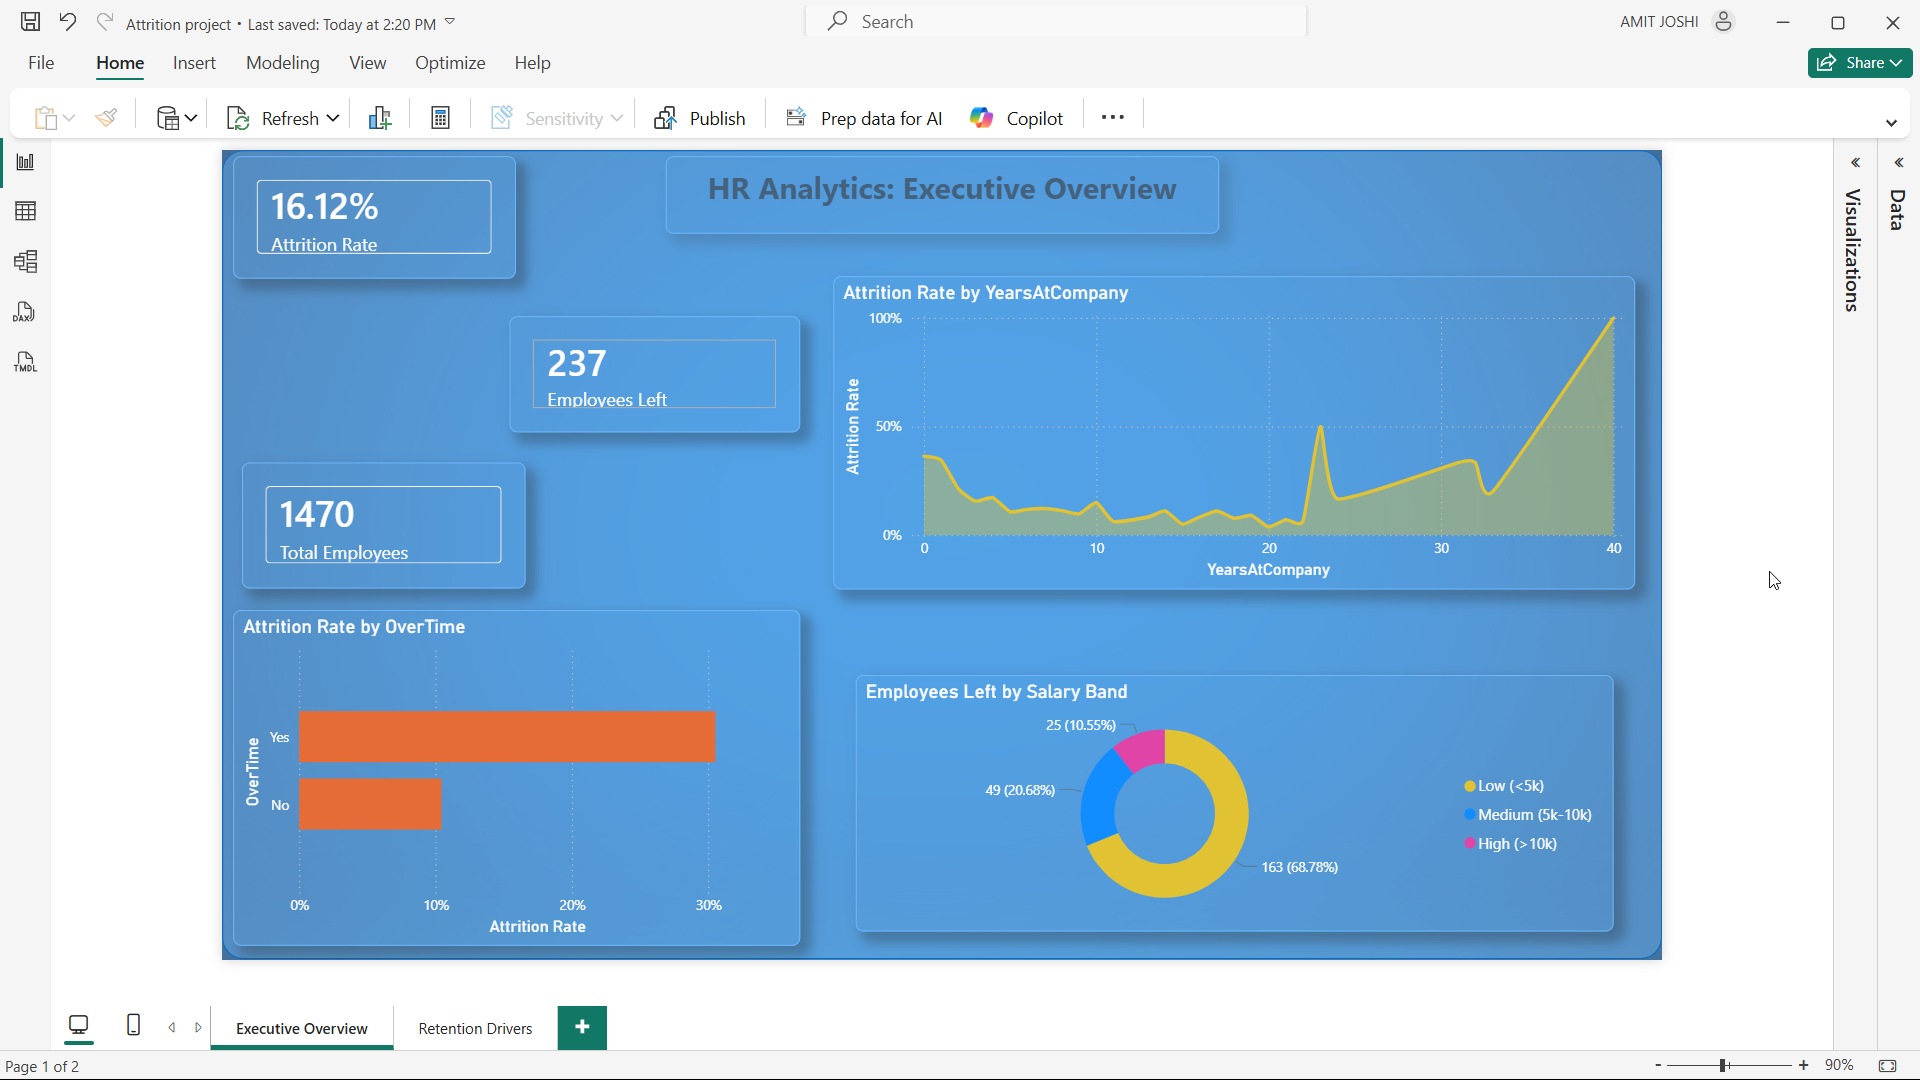

Layout of this report page (visuals, bound fields, positions):
{"tool":"powerbi","page":{"name":"Executive Overview","canvas":[1280,720],"ordinal":0},"visuals":[{"type":"textbox","box":[394.1,5.6,491.9,68.5],"z":0},{"type":"shape","box":[0,0,1280,719.2],"z":1000},{"type":"cardVisual","fields":{"Data":["employee_db employee_attrition.Attition Rate"]},"box":[9.8,5.6,251.5,109],"z":2000},{"type":"cardVisual","fields":{"Data":["employee_db employee_attrition.Total Employees"]},"box":[17.4,277.9,252.3,111.6],"z":3000},{"type":"cardVisual","fields":{"Data":["employee_db employee_attrition.Employeees Left"]},"box":[255.7,148.1,258.5,103.4],"z":4000},{"type":"clusteredBarChart","fields":{"Category":["employee_db employee_attrition.OverTime"],"Y":["employee_db employee_attrition.Attition Rate"]},"box":[9.5,408.7,504,298.6],"z":5000},{"type":"donutChart","fields":{"Category":["employee_db employee_attrition.Salary Band"],"Y":["employee_db employee_attrition.Employeees Left"]},"box":[563.1,466.7,673.5,227.8],"z":6000},{"type":"lineChart","fields":{"Category":["employee_db employee_attrition.YearsAtCompany"],"Y":["employee_db employee_attrition.Attition Rate"]},"box":[543.6,111.8,712.7,278.1],"z":7000}]}

Visuals, with their boxes on the page's 1280x720 design canvas (x1, y1, x2, y2). These are canvas units, not pixel positions in the 1920x1080 screenshot, which may show the page scaled, cropped or inside an application window:
textbox: rect(394, 6, 886, 74)
shape: rect(0, 0, 1280, 719)
cardVisual - employee_db employee_attrition.Attition Rate: rect(10, 6, 261, 115)
cardVisual - employee_db employee_attrition.Total Employees: rect(17, 278, 270, 390)
cardVisual - employee_db employee_attrition.Employeees Left: rect(256, 148, 514, 252)
clusteredBarChart - employee_db employee_attrition.OverTime x employee_db employee_attrition.Attition Rate: rect(10, 409, 514, 707)
donutChart - employee_db employee_attrition.Salary Band x employee_db employee_attrition.Employeees Left: rect(563, 467, 1237, 694)
lineChart - employee_db employee_attrition.YearsAtCompany x employee_db employee_attrition.Attition Rate: rect(544, 112, 1256, 390)
